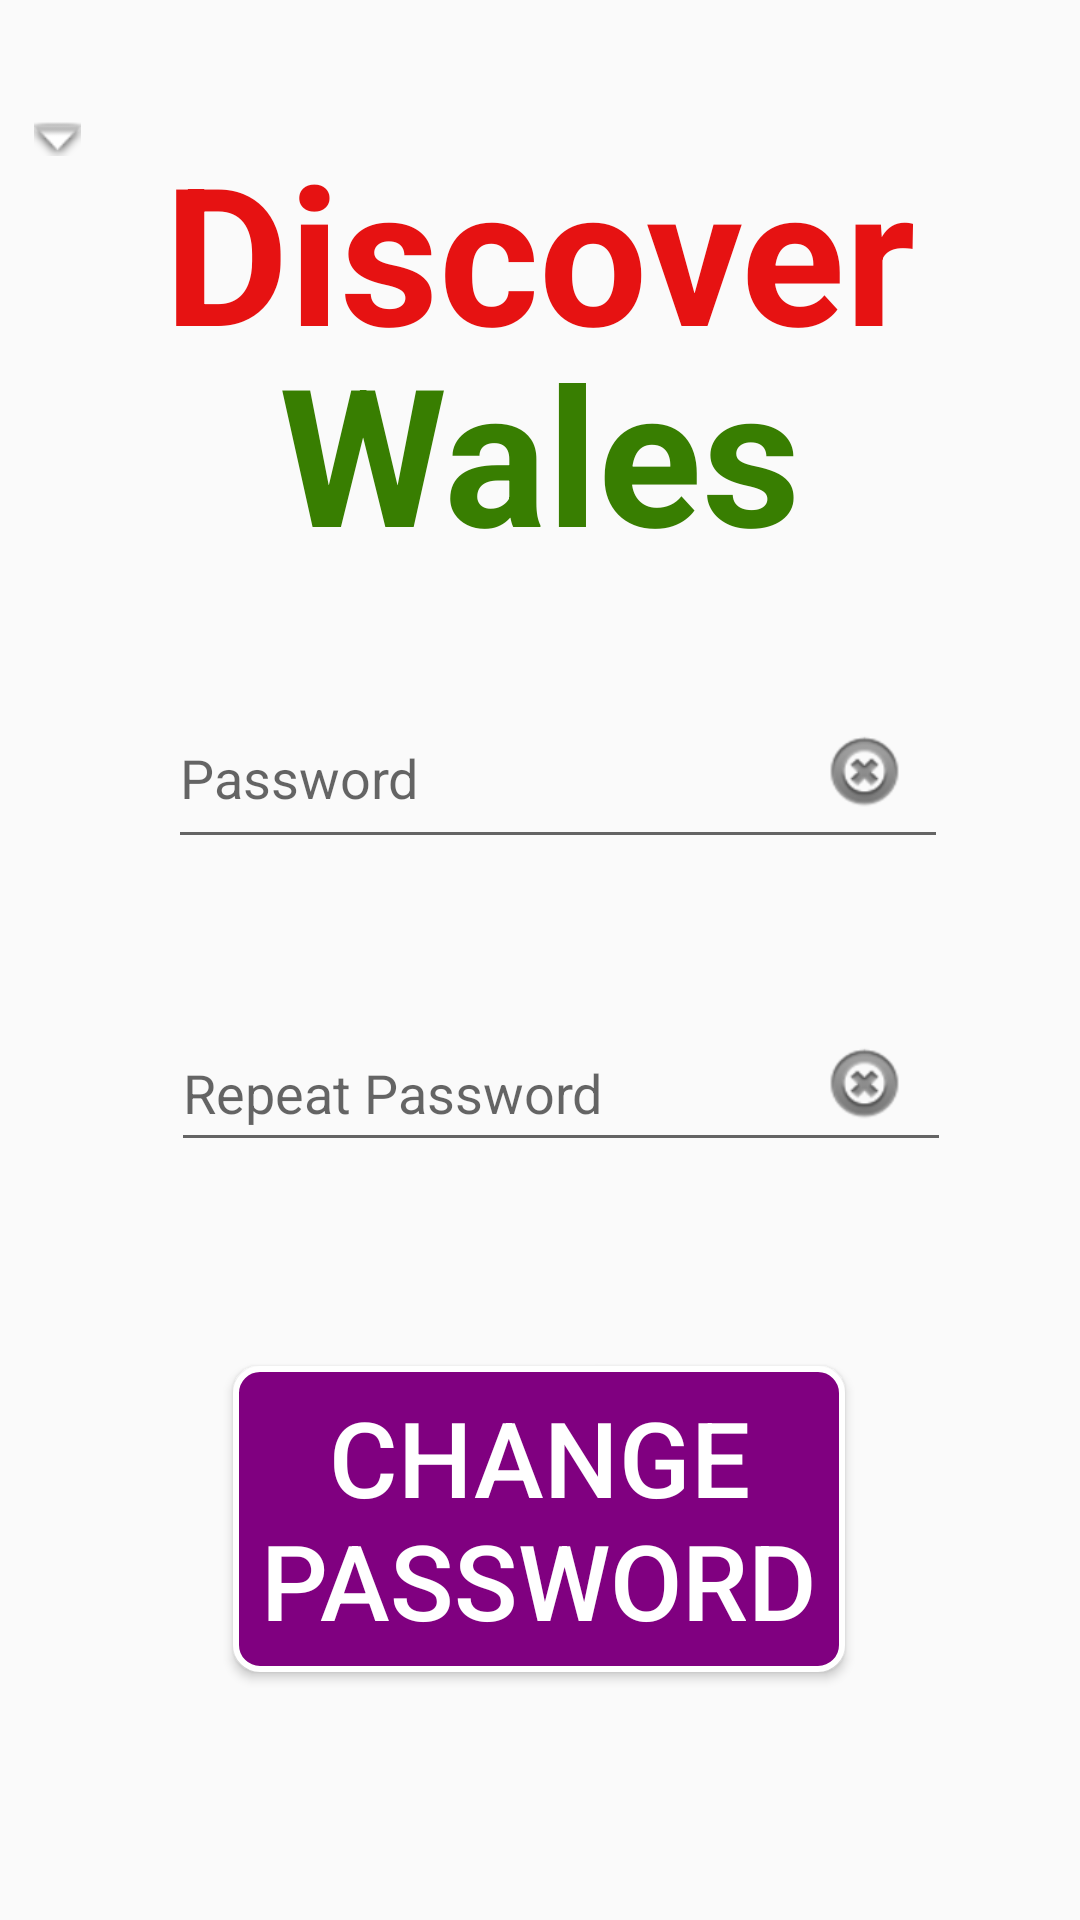

Where to tap for icons on this 1080*1920 app screen, as (x=x, y=y):
notification clear all: (x=864, y=771), (x=864, y=1083)
